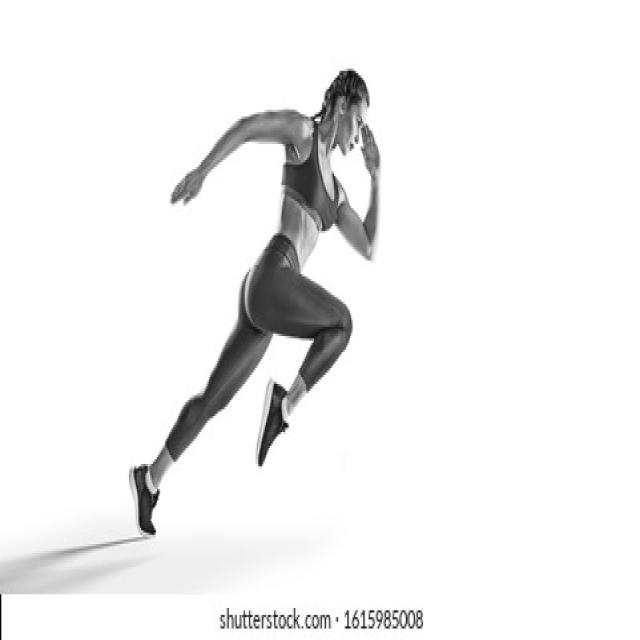running: (128, 67, 389, 544)
